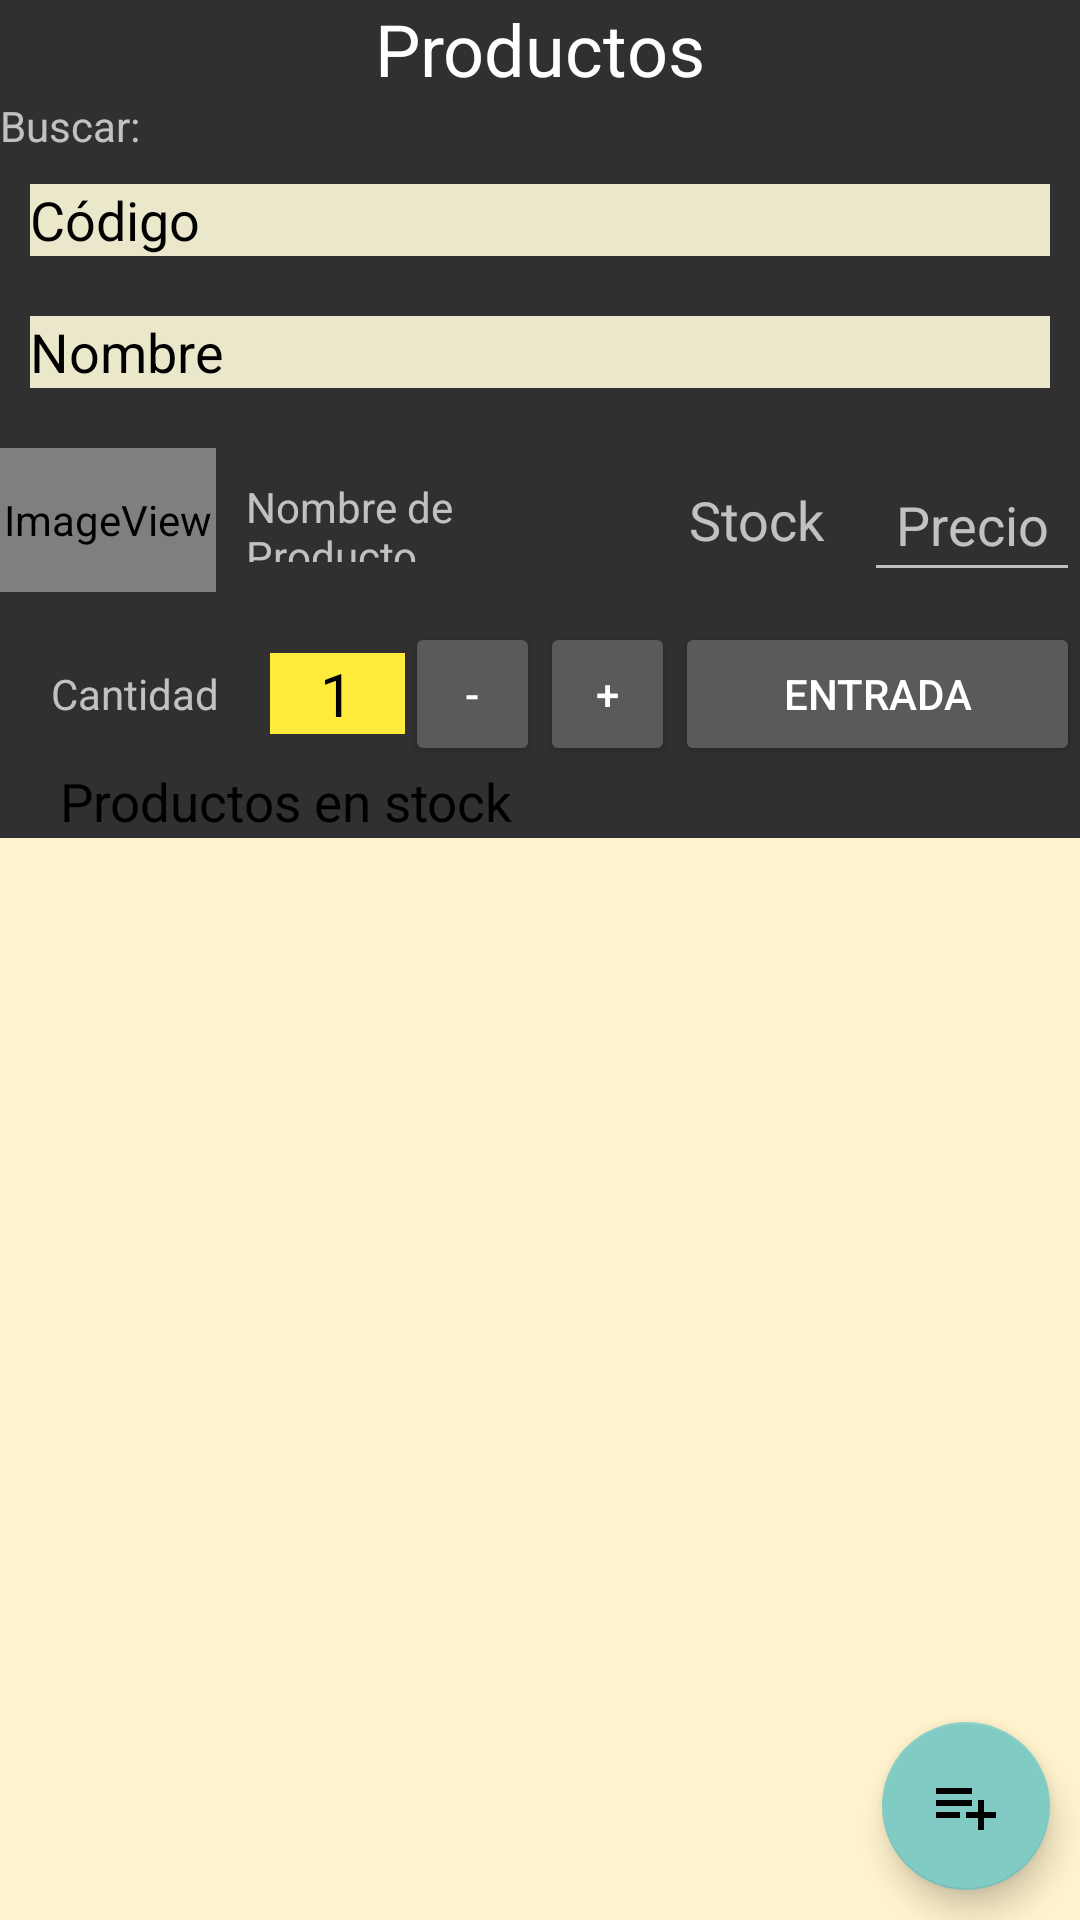

Where to tap for icons on this 1080px x 1920px app screen, as point (x, y):
playlist add: point (966, 1806)
